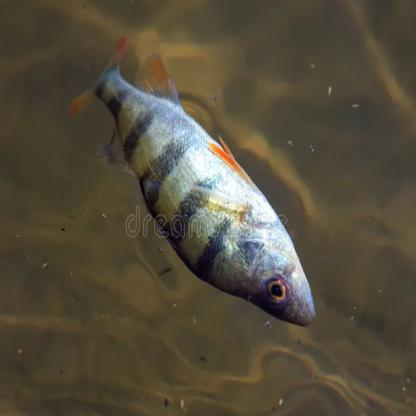deceased fish: (68, 36, 319, 329)
